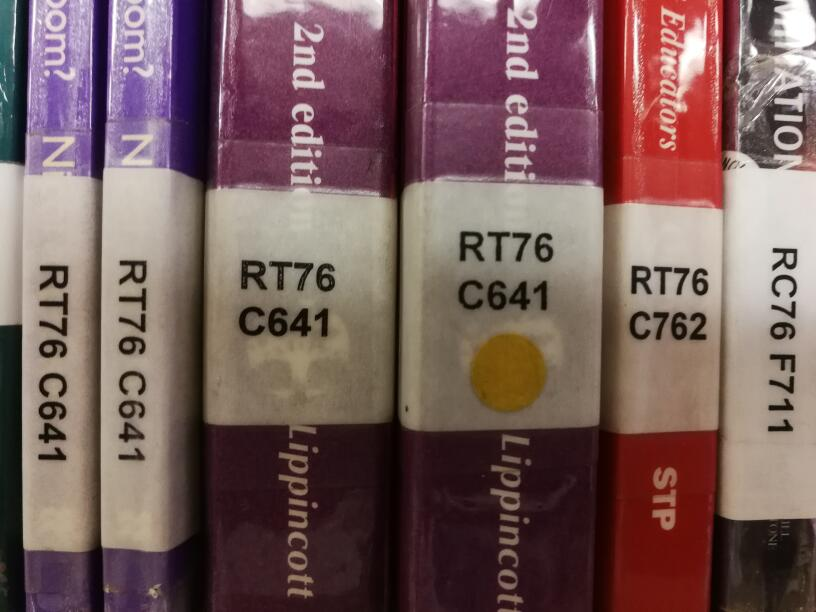booklabel: (235, 255, 338, 340), (456, 229, 556, 312), (110, 255, 149, 464), (763, 245, 800, 437), (34, 261, 69, 463), (627, 262, 709, 343)
